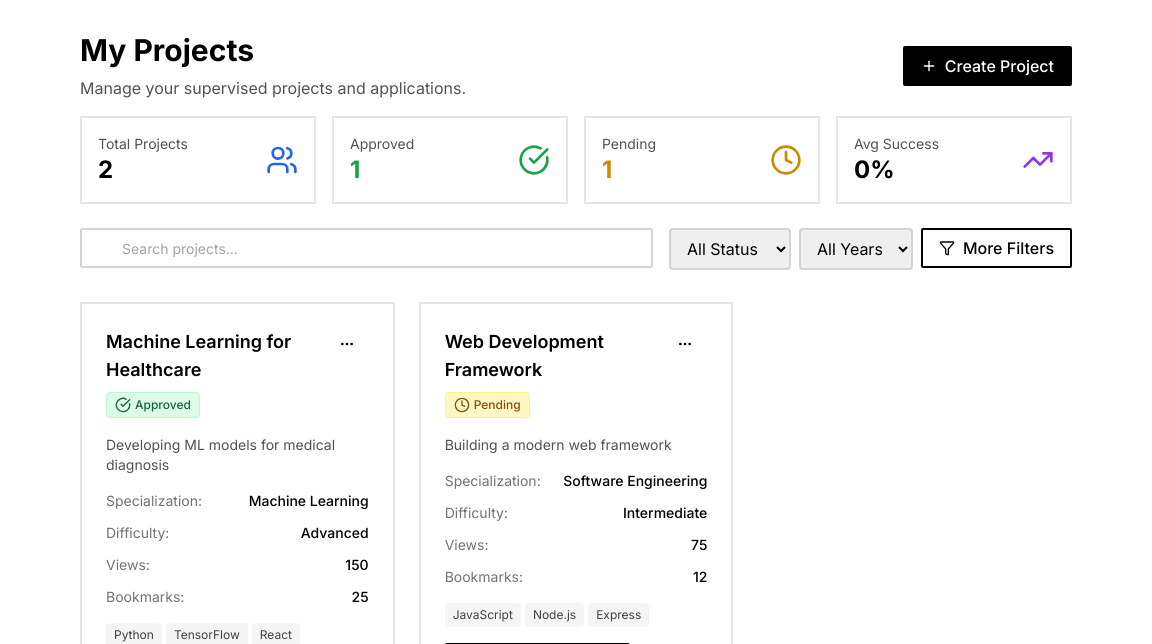
SupervisorProjectsPage › should show empty state when no projects match filters
Expected: the heading "Machine Learning for Healthcare" is shown, [106,331,291,380]
Search for something that doesn't exist
In the field with placeholder "Search projects...": point(366, 248) [80,228,653,268], type "nonexistent project"
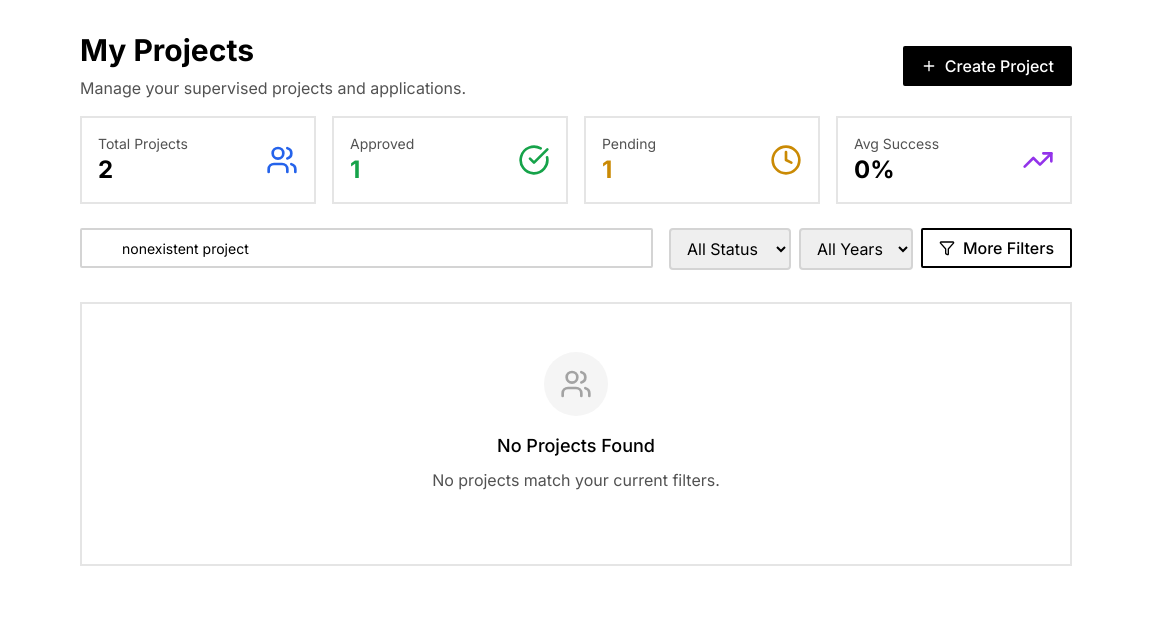
Now the heading "No Projects Found" is shown, box [497,435,655,456]
Now the text "No projects match your current filters." is shown, box [432,470,720,490]
